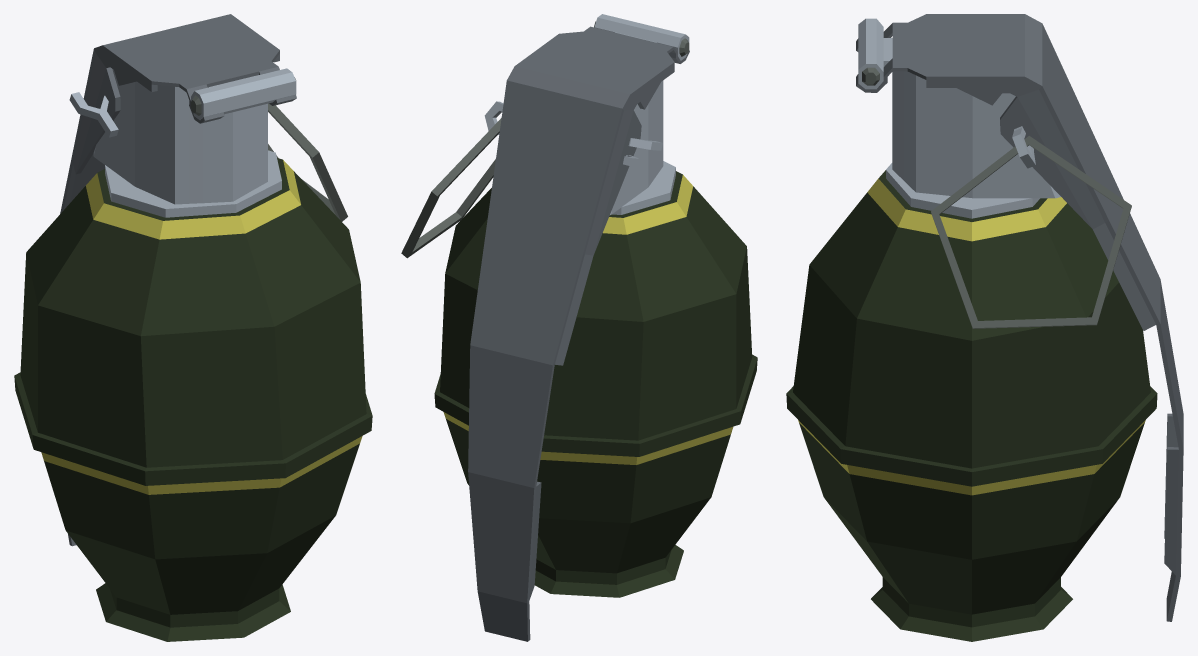
Rendered from Grenade.fbx.
3 views of the same model, side by side, from view 1: azimuth 30°, elevation 25°; view 2: azimuth 150°, elevation 25°; view 3: azimuth 270°, elevation 25° (orthographic). The views are drawn at different scales.
Parts seen in each view (by area): view 1: Grenade; view 2: Grenade; view 3: Grenade.
Boxes of the visible parts, x1,y1,x2,y2 form: Grenade: (14, 14, 372, 641); Grenade: (401, 14, 757, 641); Grenade: (786, 14, 1183, 641).
Size of the model in its own units: 8.16 by 13.75 by 8.7.
